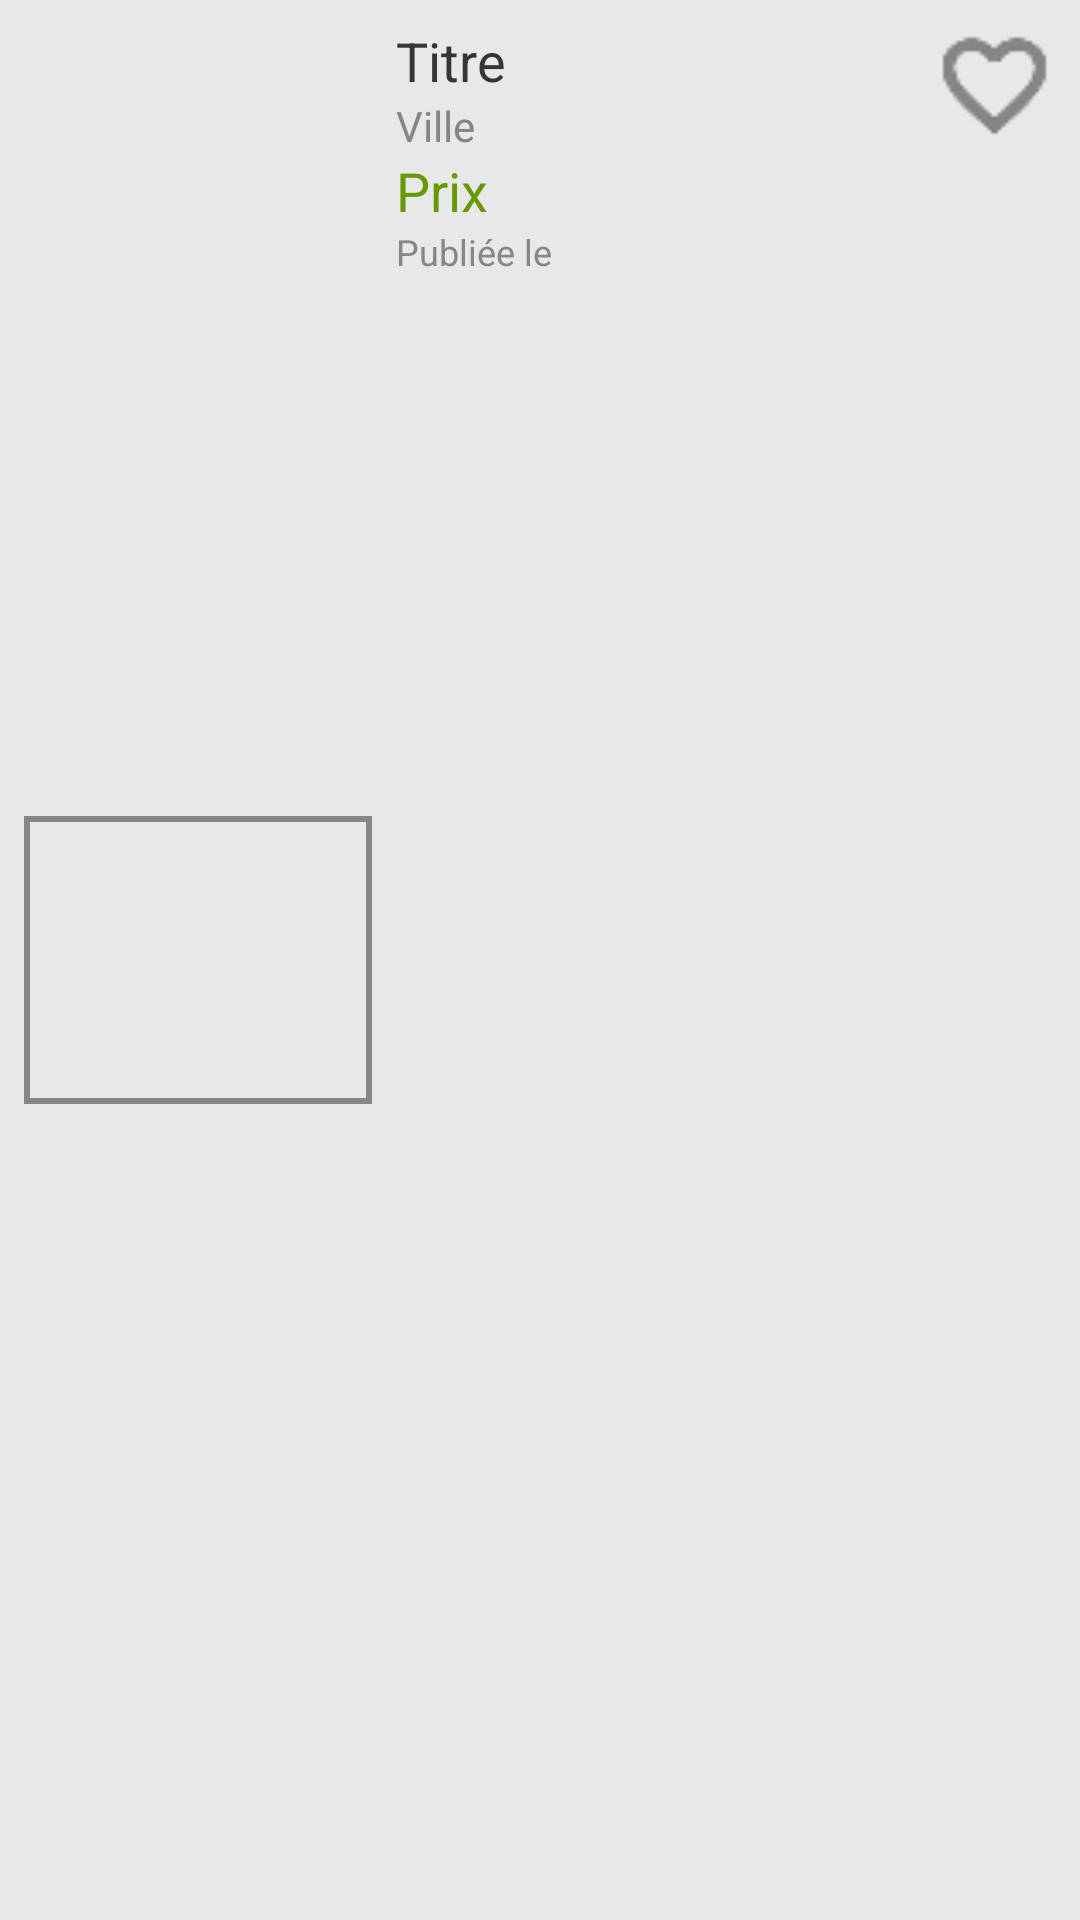

Icon click points for this 1080x1920 phone screenshot, format (x,y):
favorite border: (994,85)
